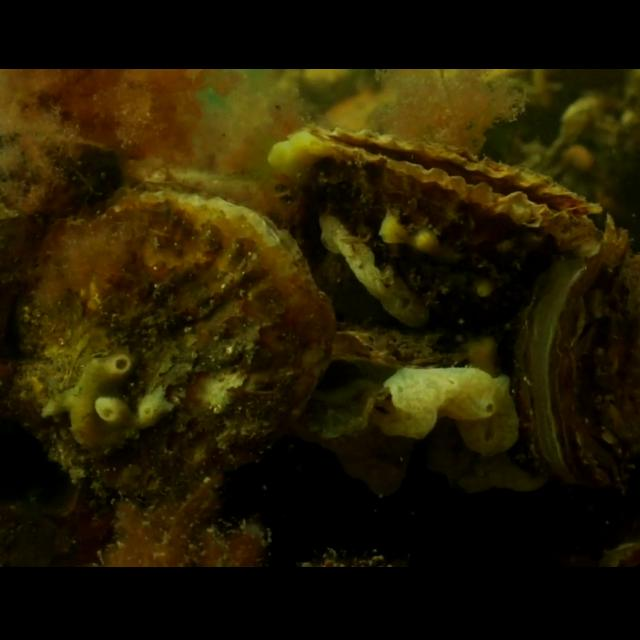Oyster-Closed: (4, 188, 336, 514)
Oyster-Open: (268, 126, 606, 330), (513, 213, 640, 492), (300, 320, 510, 440)
